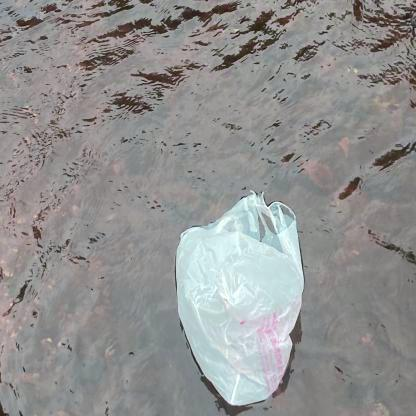Plastic: (166, 186, 308, 412)
